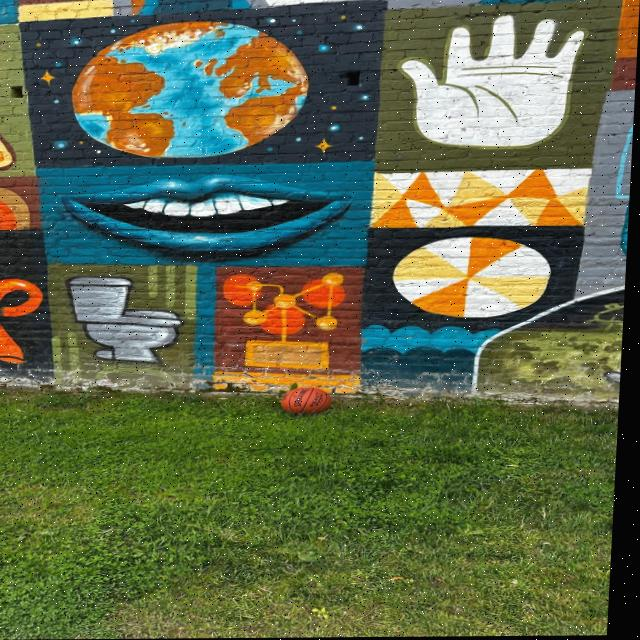Basketball: (280, 387, 331, 414)
